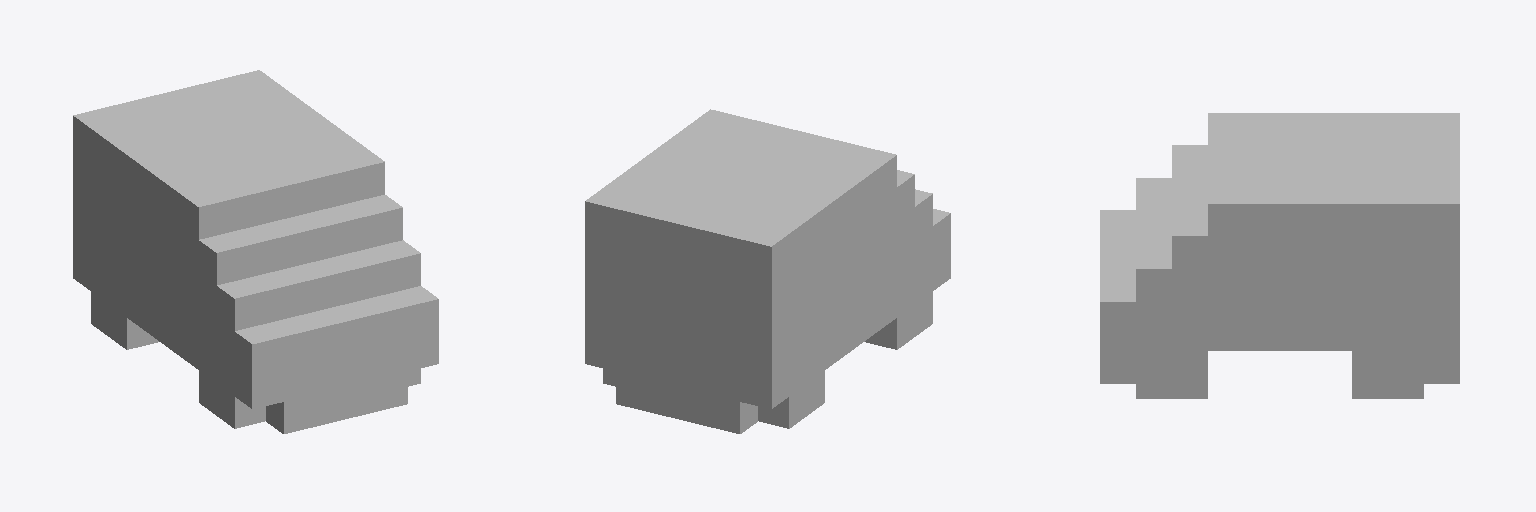
Rendered from OneEnemy2.obj.
3 renders of one model, left to right at view 1: azimuth 30°, elevation 25°; view 2: azimuth 150°, elevation 25°; view 3: azimuth 270°, elevation 25°, orthographic.
Parts seen in each view (by area): view 1: object 1; view 2: object 1; view 3: object 1.
Part boxes in pixels (bbox=[...]): object 1: bbox=[73, 70, 438, 433]; object 1: bbox=[585, 109, 950, 433]; object 1: bbox=[1100, 113, 1459, 398].
Size of the model in its own units: 0.6 by 0.6 by 1.